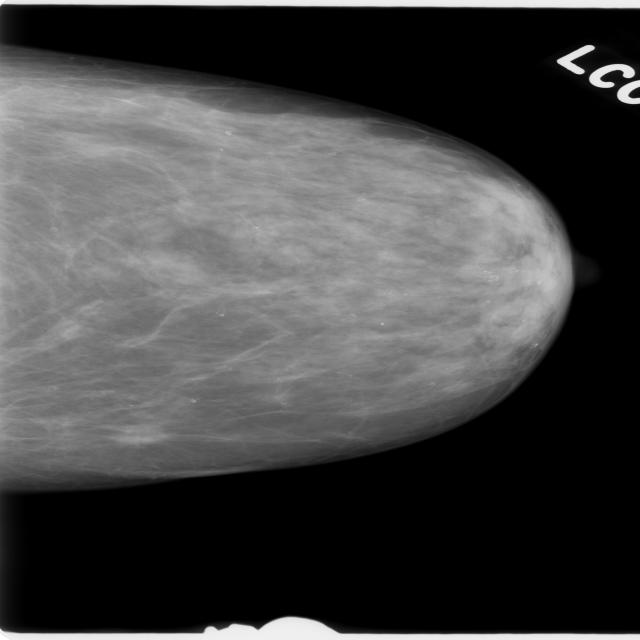normal: (0, 38, 614, 485)
